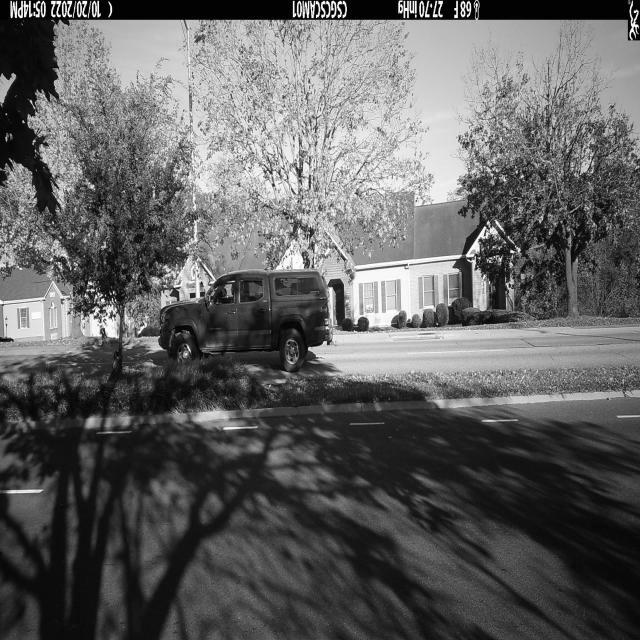Pickup: (159, 269, 334, 372)
